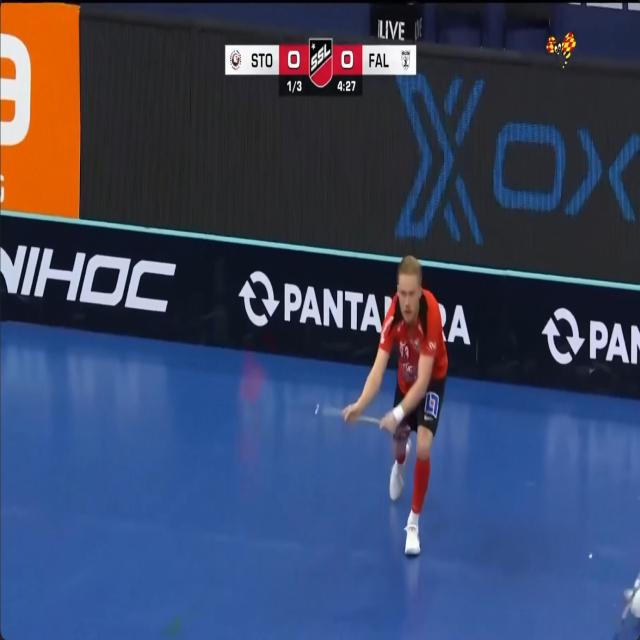player: (343, 255, 448, 554)
stick: (356, 415, 379, 426), (322, 407, 342, 417)
